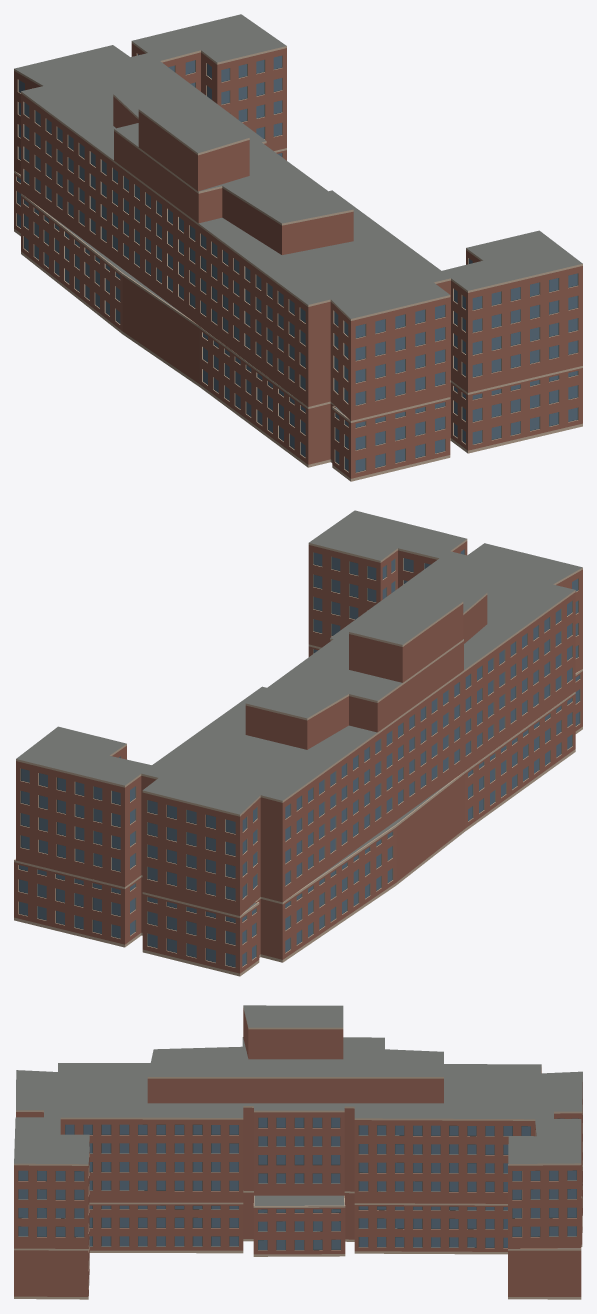
File: dc-au-anderson-hall.detail.glb
3 renders of one model, top to bottom at view 1: azimuth 30°, elevation 25°; view 2: azimuth 150°, elevation 25°; view 3: azimuth 270°, elevation 25°, orthographic. The views are drawn at different scales.
Parts seen in each view (by area): view 1: Anderson Hall; view 2: Anderson Hall; view 3: Anderson Hall.
Boxes of the visible parts, box(x1,y1,x2,y2) form: Anderson Hall: box(14, 14, 582, 481); Anderson Hall: box(14, 510, 582, 976); Anderson Hall: box(14, 1005, 582, 1299).
Bounding box in the file's own units: 40.89 × 36 × 96.03.
